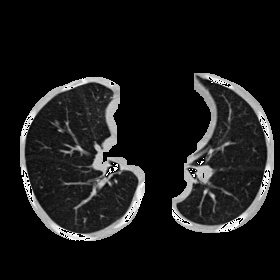PN: (54, 121, 58, 125)
